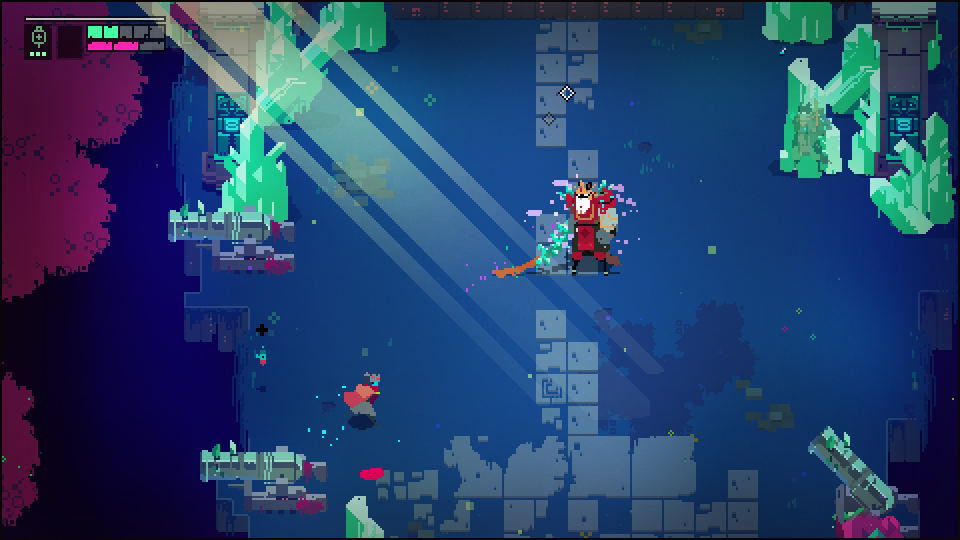hanged_man: (535, 180, 617, 279)
player: (341, 370, 384, 424)
